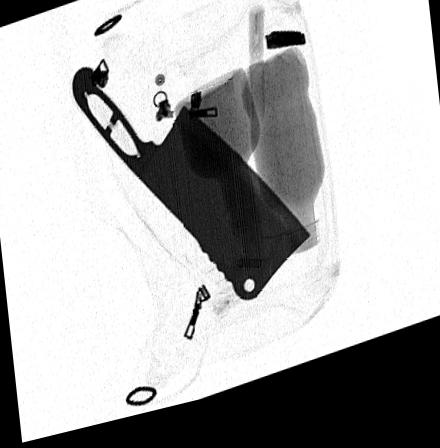Knife: (72, 69, 313, 312)
